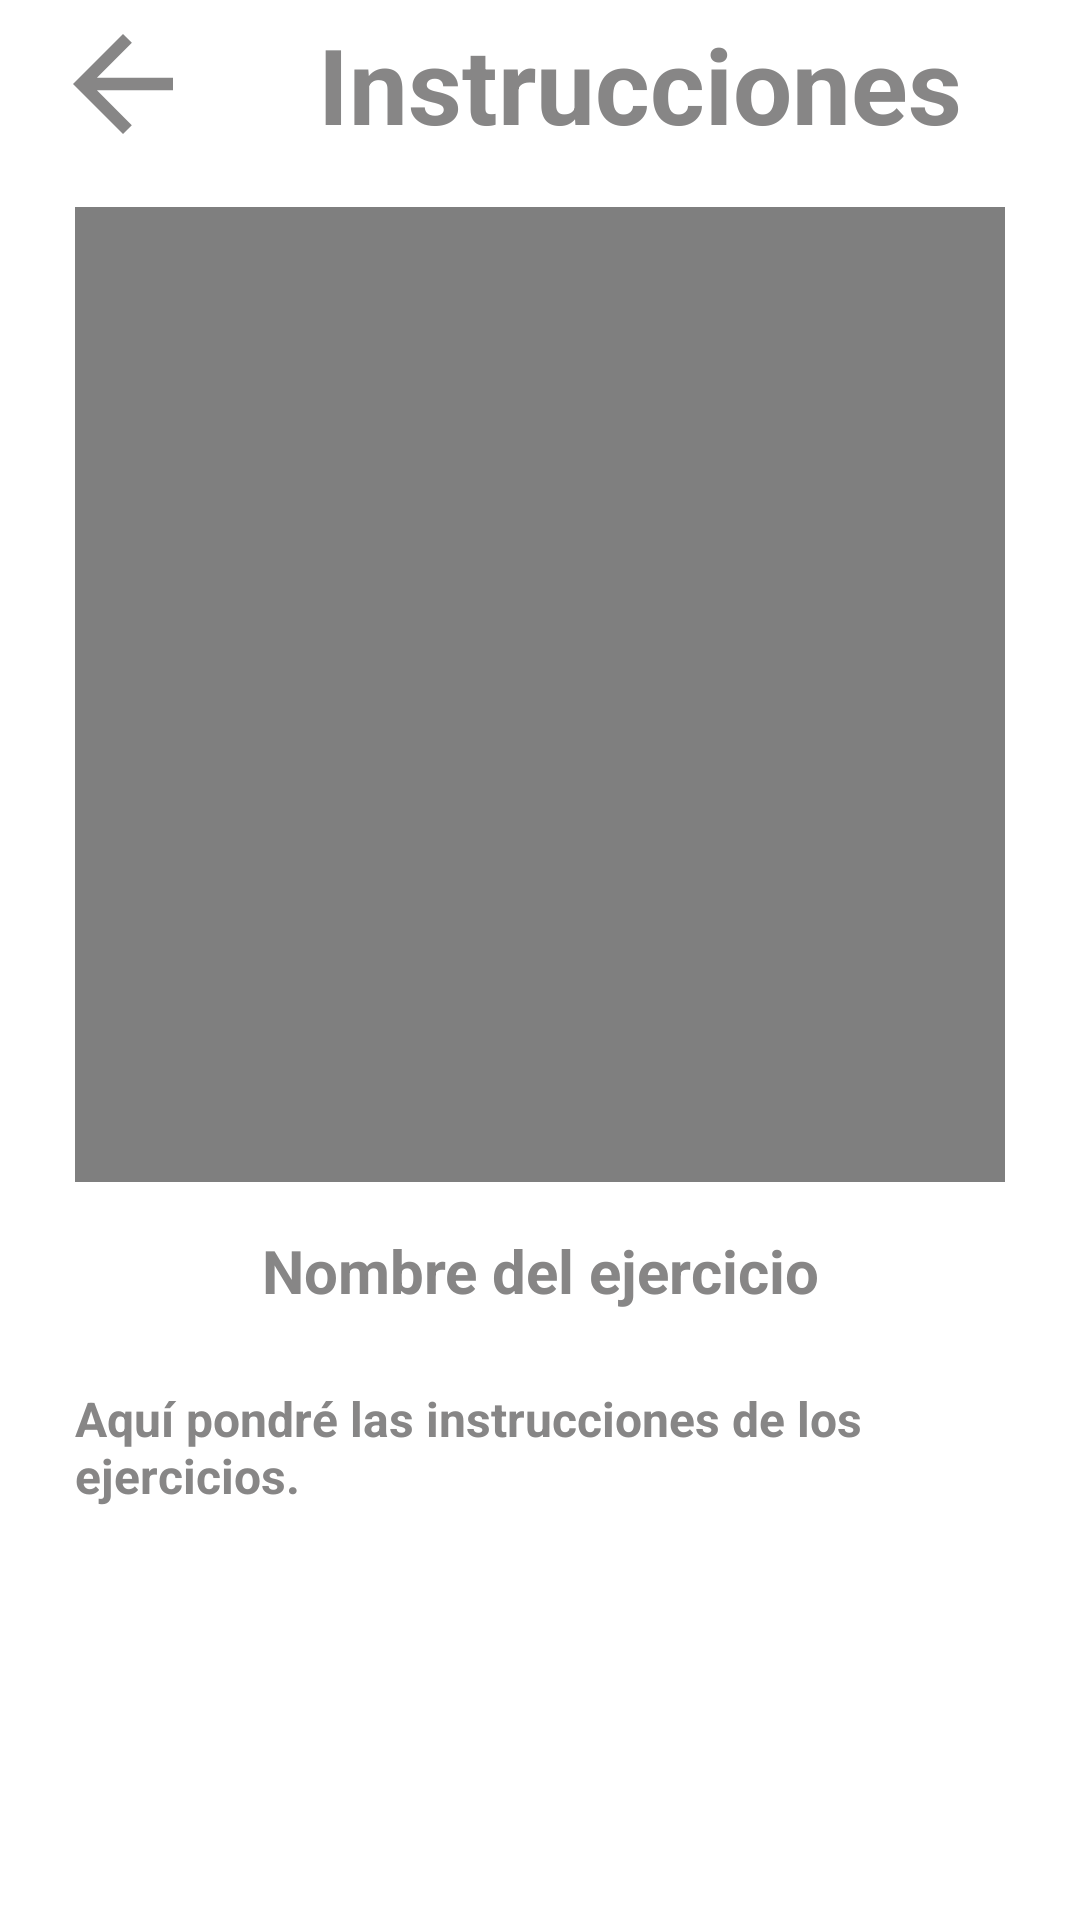

Screen size 1080px×1920px. Icon name, then its center in pixels as [x,y]:
Atrás: [123,84]
